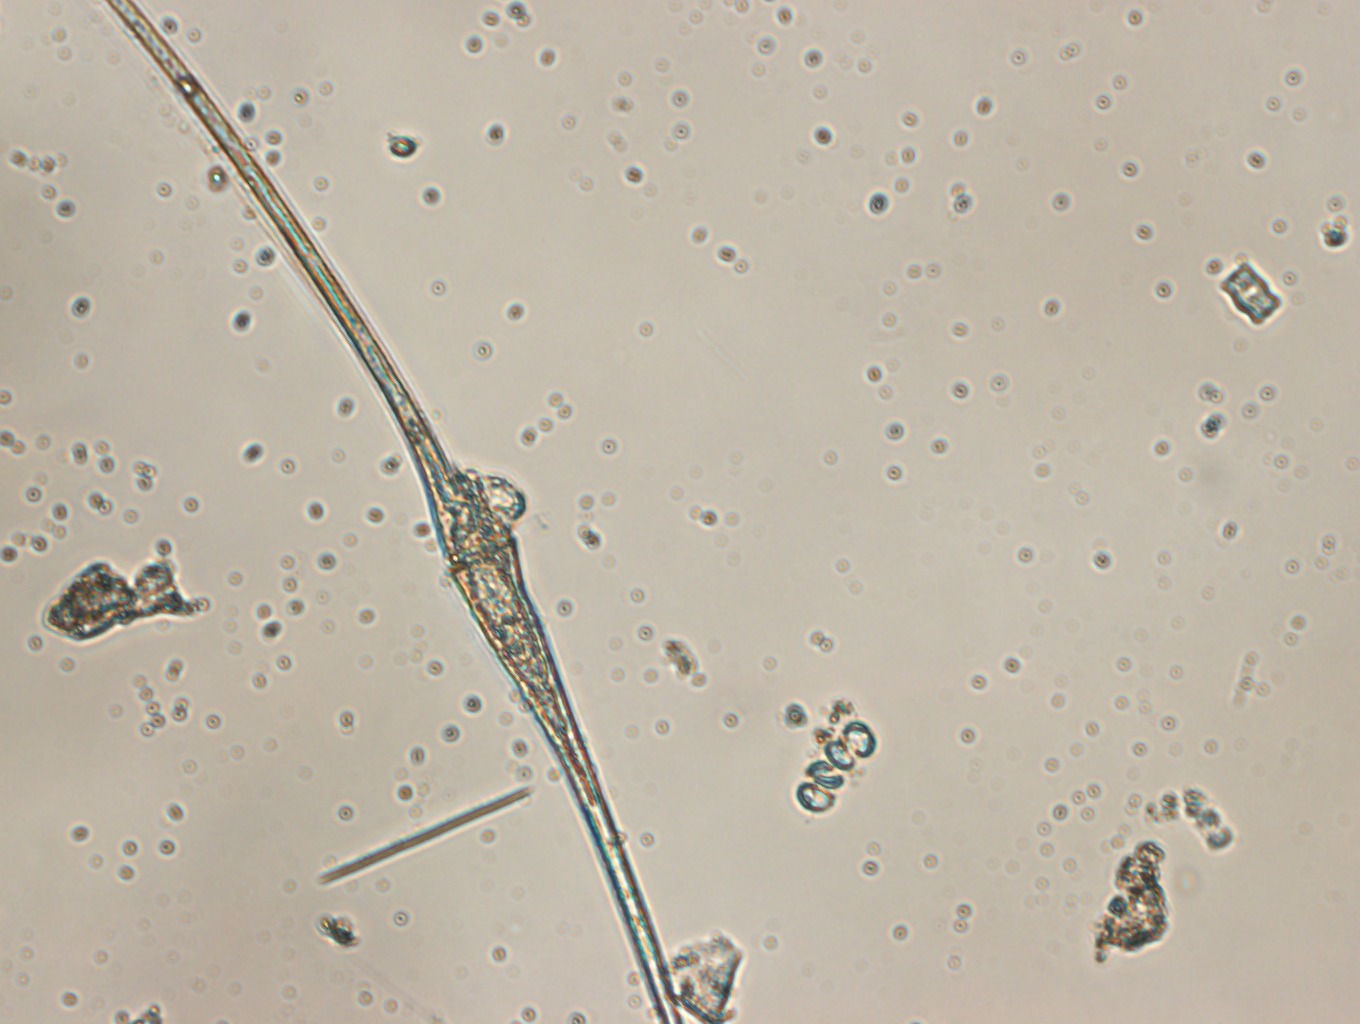ceratium fusus: (108, 1, 682, 1024)
skeletonema: (796, 719, 877, 816)
